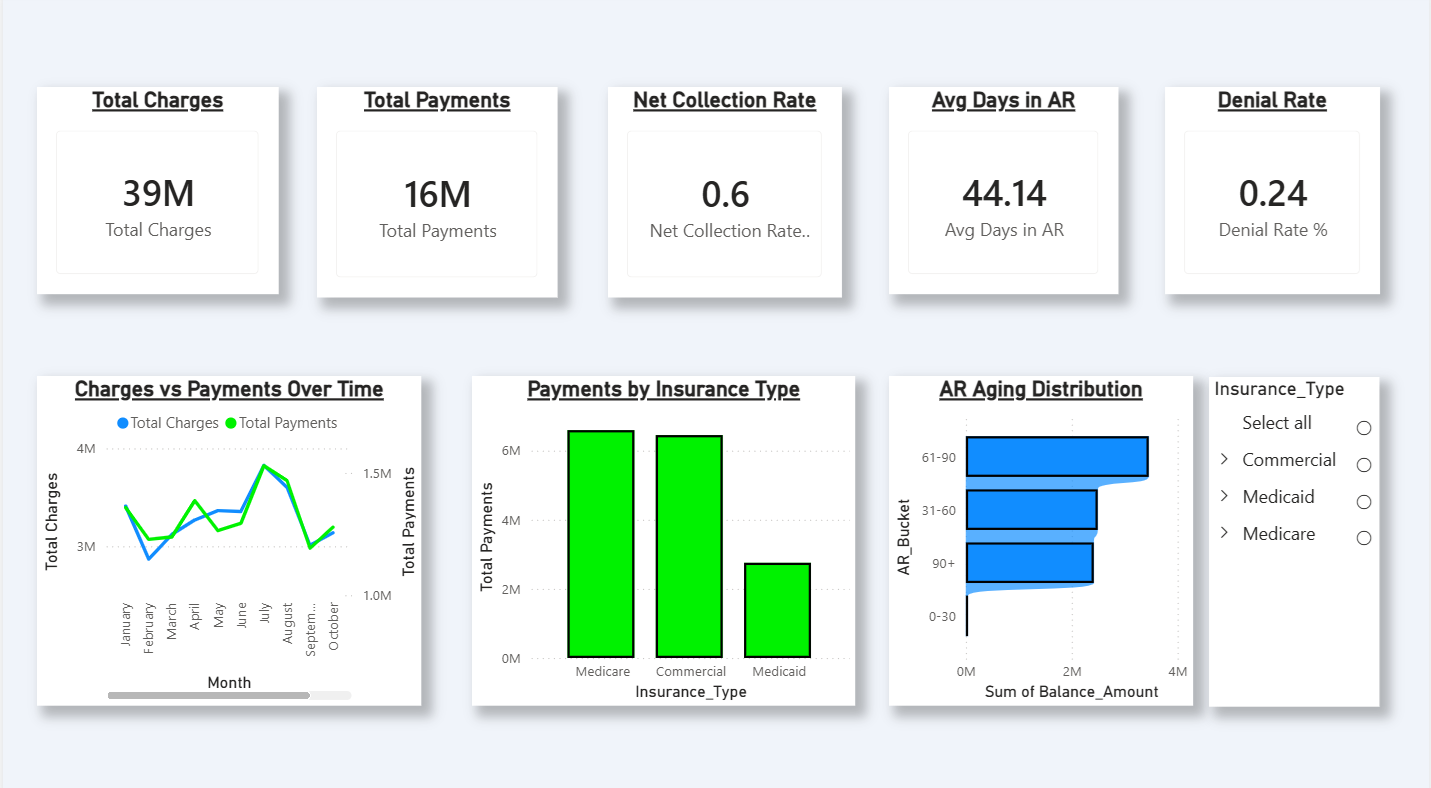

Layout of this report page (visuals, bound fields, positions):
{"tool":"powerbi","page":{"name":"Executive Overview ","canvas":[1280,720],"ordinal":0},"visuals":[{"type":"cardVisual","title":"Total Charges","fields":{"Data":["Claims_Data.Total Charges"]},"box":[30.1,82.3,216.8,185.7],"z":0},{"type":"cardVisual","title":"Total Payments","fields":{"Data":["Claims_Data.Total Payments"]},"box":[282.1,82.3,215.8,188.7],"z":1000},{"type":"cardVisual","title":"Net Collection Rate","fields":{"Data":["Claims_Data.Net Collection Rate %"]},"box":[543.1,82.3,209.8,188.7],"z":2000},{"type":"cardVisual","title":"Denial Rate","fields":{"Data":["Claims_Data.Denial Rate %"]},"box":[1043.1,82.3,192.8,185.7],"z":3000},{"type":"cardVisual","title":"Avg Days in AR","fields":{"Data":["Claims_Data.Avg Days in AR"]},"box":[795.1,82.3,205.8,185.7],"z":4000},{"type":"lineChart","title":"Charges vs Payments Over Time","fields":{"Category":["Claims_Data.Submission_Date.Variation.Date Hierarchy.Month"],"Y":["Claims_Data.Total Charges"],"Y2":["Claims_Data.Total Payments"]},"box":[30.1,342.3,345.3,296.2],"z":5000},{"type":"clusteredColumnChart","title":"Payments by Insurance Type","fields":{"Category":["Claims_Data.Insurance_Type"],"Y":["Claims_Data.Total Payments"]},"box":[420.6,342.3,344.3,296.2],"z":6000},{"type":"barChart","title":"AR Aging Distribution","fields":{"Category":["Claims_Data.AR_Bucket"],"Y":["Sum(Claims_Data.Balance_Amount)"]},"box":[795.1,342.3,273.1,296.2],"z":7000},{"type":"listSlicer","fields":{"Values":["Claims_Data.Insurance_Type","Claims_Data.Provider_ID","Claims_Data.Submission_Date.Variation.Date Hierarchy.Year","Claims_Data.Submission_Date.Variation.Date Hierarchy.Quarter","Claims_Data.Submission_Date.Variation.Date Hierarchy.Month","Claims_Data.Submission_Date.Variation.Date Hierarchy.Day"]},"box":[1082.7,342.8,153.2,295.6],"z":8000}]}

Visuals, with their boxes in screenshot pixels (x1, y1, x2, y2), scaled from the page's 1280x720 canvas onto the 1431x788 screenshot:
"Total Charges" cardVisual: crop(34, 90, 276, 293)
"Total Payments" cardVisual: crop(315, 90, 557, 297)
"Net Collection Rate" cardVisual: crop(607, 90, 842, 297)
"Denial Rate" cardVisual: crop(1166, 90, 1382, 293)
"Avg Days in AR" cardVisual: crop(889, 90, 1119, 293)
"Charges vs Payments Over Time" lineChart: crop(34, 375, 420, 699)
"Payments by Insurance Type" clusteredColumnChart: crop(470, 375, 855, 699)
"AR Aging Distribution" barChart: crop(889, 375, 1194, 699)
listSlicer - Claims_Data.Insurance_Type x Claims_Data.Provider_ID: crop(1210, 375, 1382, 699)
